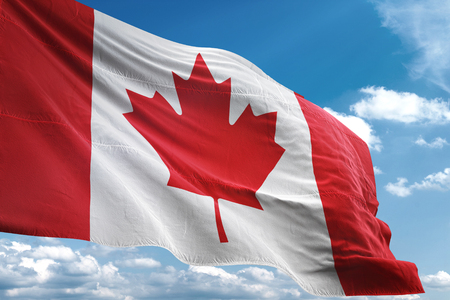Canada flag: (3, 2, 426, 295)
